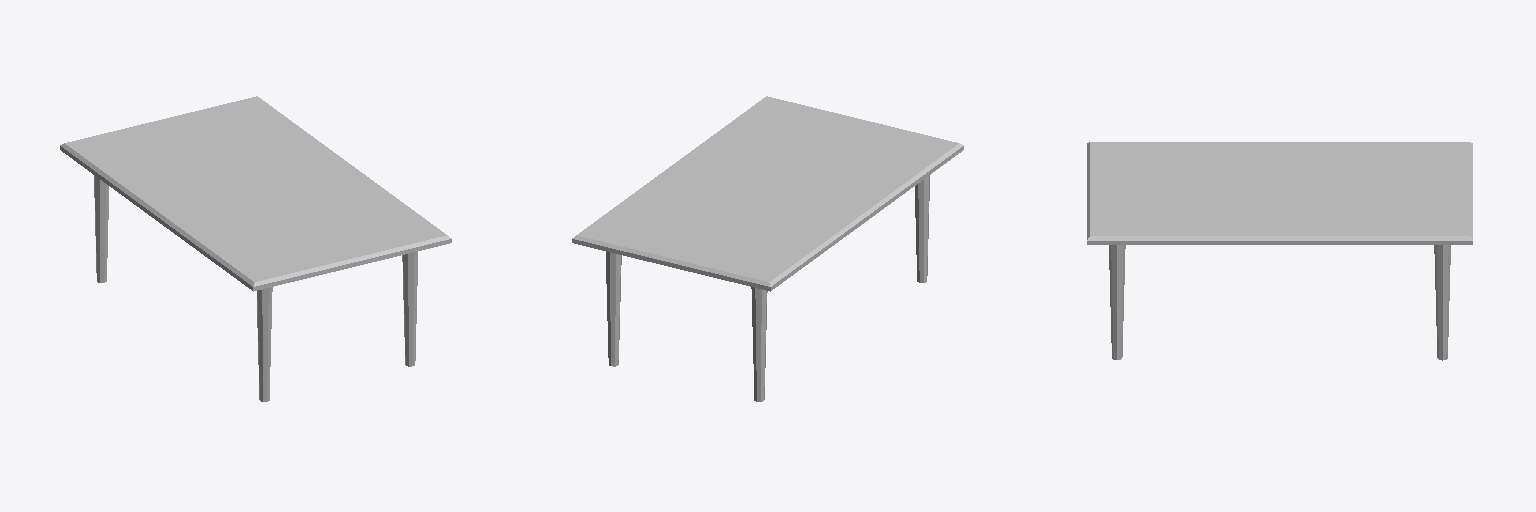
File: table_large_rectangular_01.obj
3 views of the same model, side by side, from view 1: azimuth 30°, elevation 25°; view 2: azimuth 150°, elevation 25°; view 3: azimuth 270°, elevation 25° (orthographic).
Visible parts, largest first — view 1: Table_Large_Rectangular_01_Circle.004; view 2: Table_Large_Rectangular_01_Circle.004; view 3: Table_Large_Rectangular_01_Circle.004.
Part boxes in pixels (left/top/right/bottom): Table_Large_Rectangular_01_Circle.004: left=60, top=96, right=451, bottom=401; Table_Large_Rectangular_01_Circle.004: left=572, top=96, right=963, bottom=401; Table_Large_Rectangular_01_Circle.004: left=1087, top=142, right=1472, bottom=360.
Bounding box in the file's own units: 11.74 × 7.54 × 19.8.